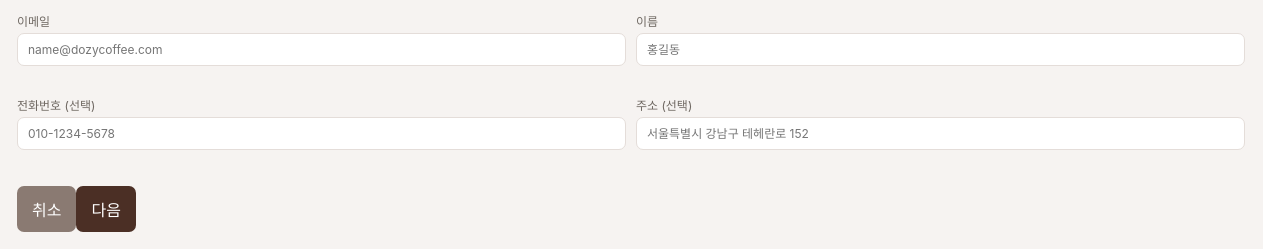
Test: InviteEmployeeForm › 이메일만 올바르고 이름이 비어 있으면 이름 필드로 포커스를 옮긴다
Step 1. Type "new@dozycoffee.com" into the field labelled "이메일" → (322, 50), box [17,33,626,66]
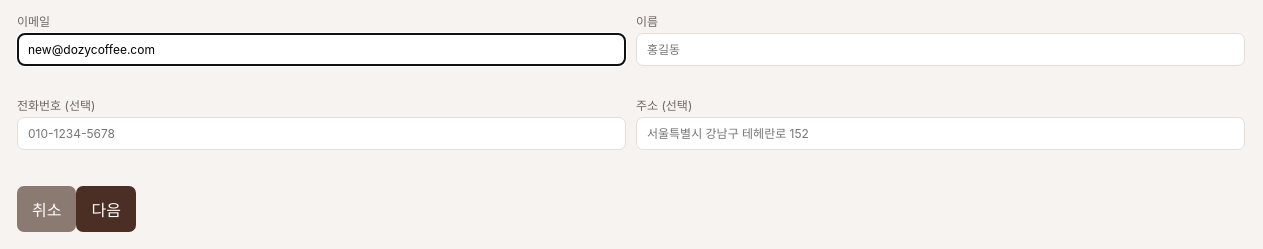
Step 2. Click the button "다음" → (106, 209), box [76,186,136,232]
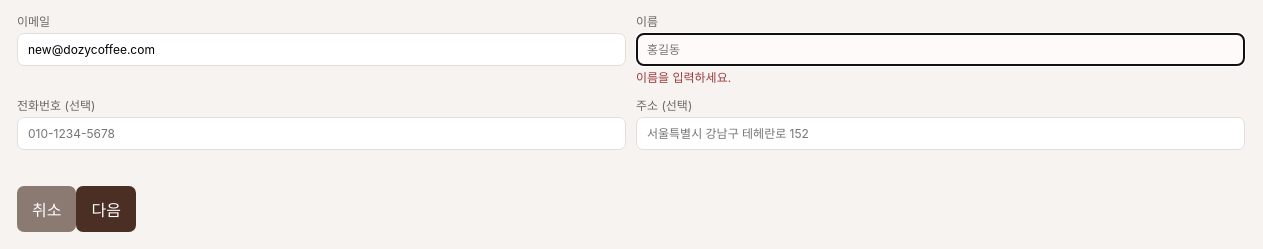
Now the text "이름을 입력하세요." is shown, box [636,70,731,85]
